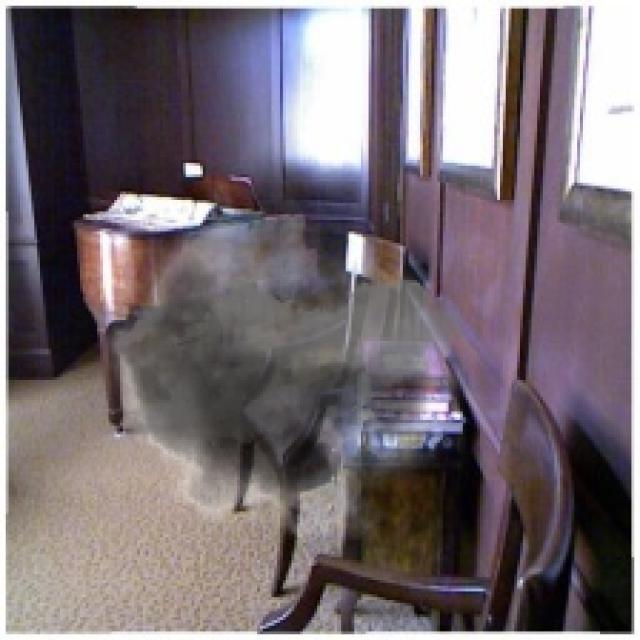smoke: (86, 177, 466, 560)
